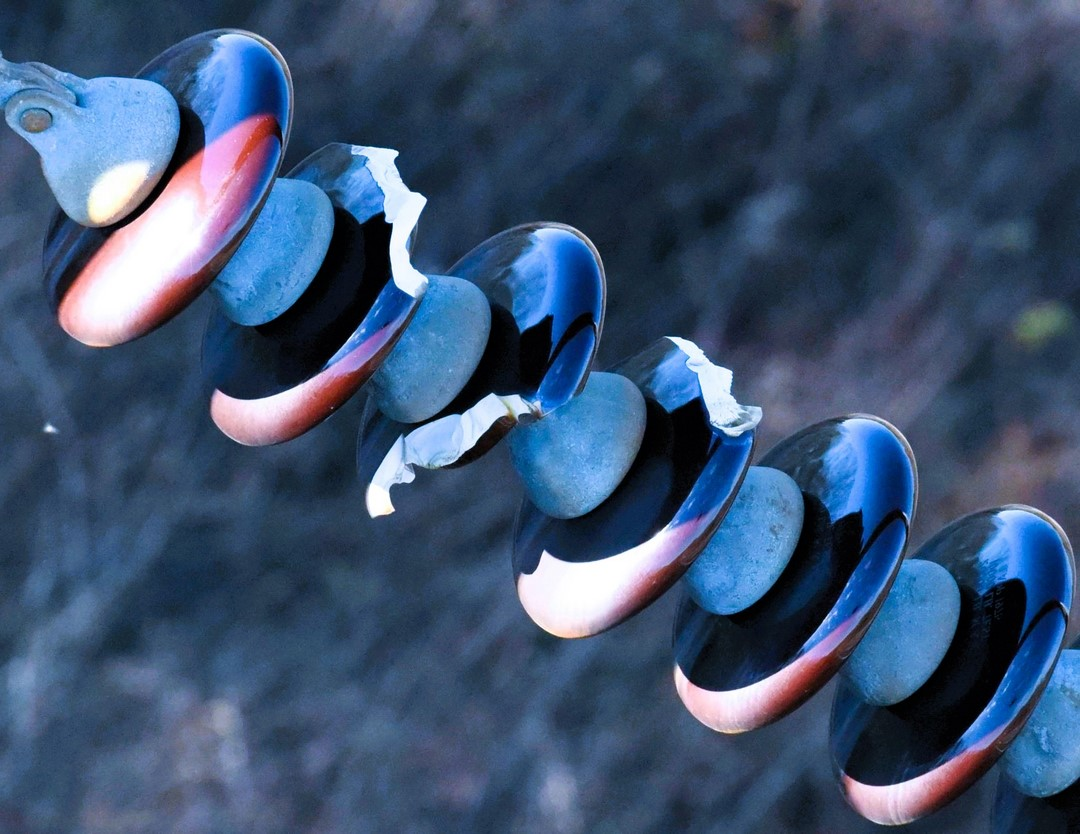insulator breakage: (276, 126, 612, 546), (629, 315, 775, 539)
